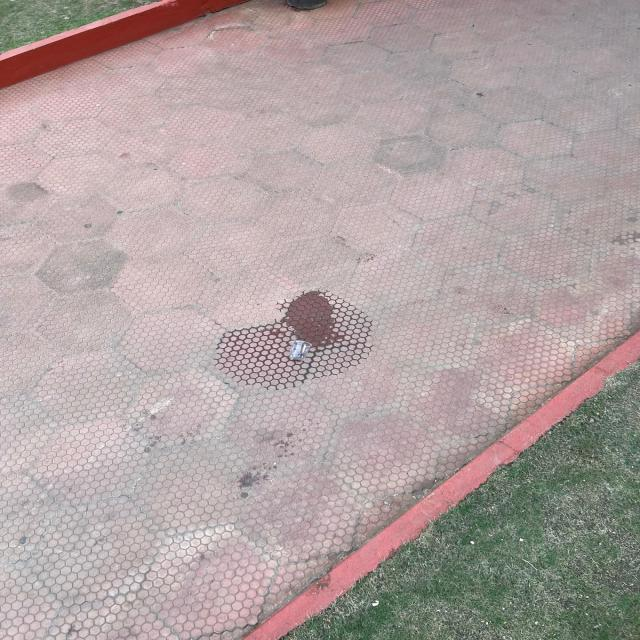cup: (289, 341, 309, 360)
spill: (285, 291, 342, 343)
